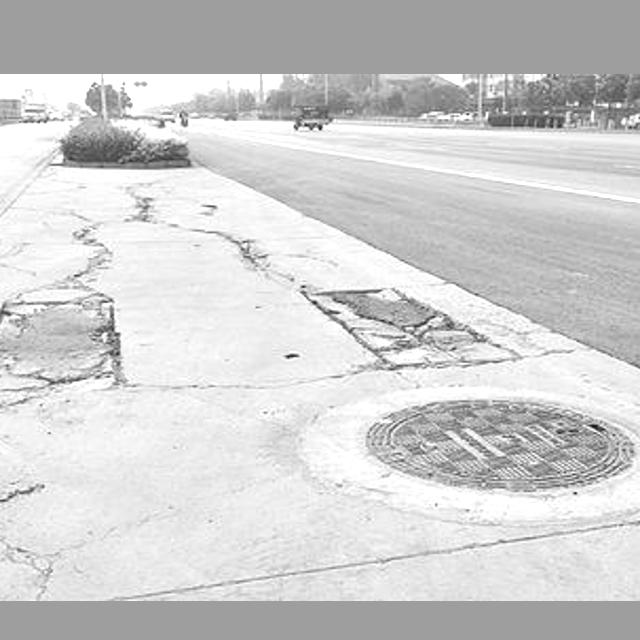good: (302, 381, 640, 525)
